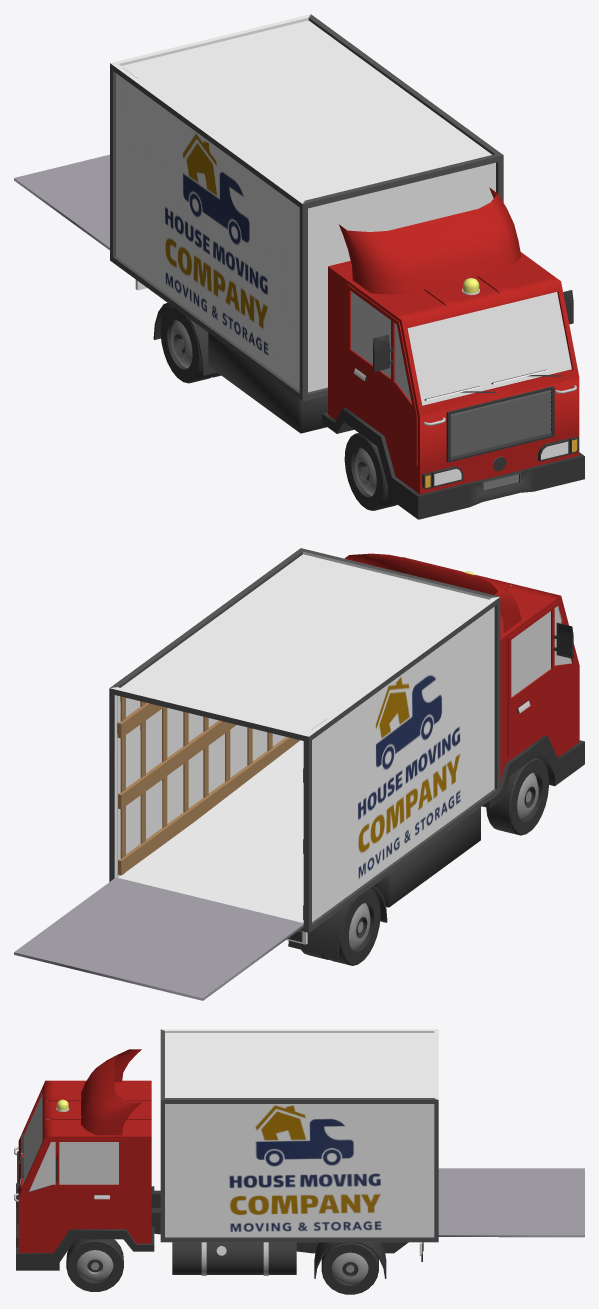
Rendered from Truck_movingcomp.fbx.
The picture shows the model from 3 angles, top to bottom: view 1: azimuth 30°, elevation 25°; view 2: azimuth 150°, elevation 25°; view 3: azimuth 270°, elevation 25°; orthographic projection. The views are drawn at different scales.
Parts seen in each view (by area): view 1: back_moving.001, Truckl.001, Window.002; view 2: back_moving.001, Truckl.001, Window.002; view 3: back_moving.001, Truckl.001, Window.002.
Boxes of the visible parts, x1,y1,x2,y2 form: back_moving.001: (14, 14, 503, 401); Truckl.001: (135, 187, 584, 519); Window.002: (351, 291, 571, 405); back_moving.001: (14, 548, 500, 1000); Truckl.001: (286, 553, 584, 965); Window.002: (511, 606, 571, 697); back_moving.001: (160, 1029, 584, 1242); Truckl.001: (14, 1049, 423, 1294); Window.002: (23, 1094, 118, 1191).
Size of the model in its own units: 201 by 261 by 682.
